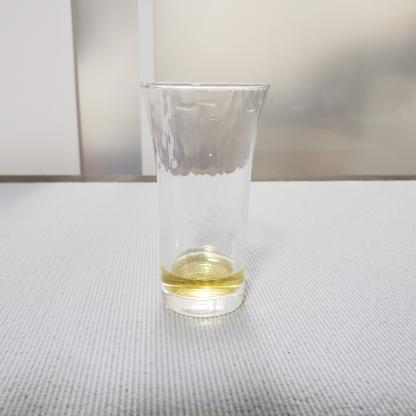glass: (131, 68, 288, 328)
